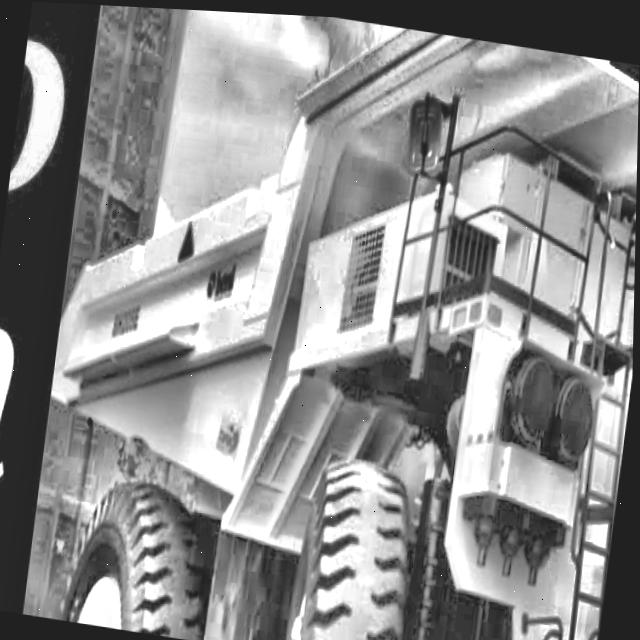dump_truck: (26, 2, 640, 640)
